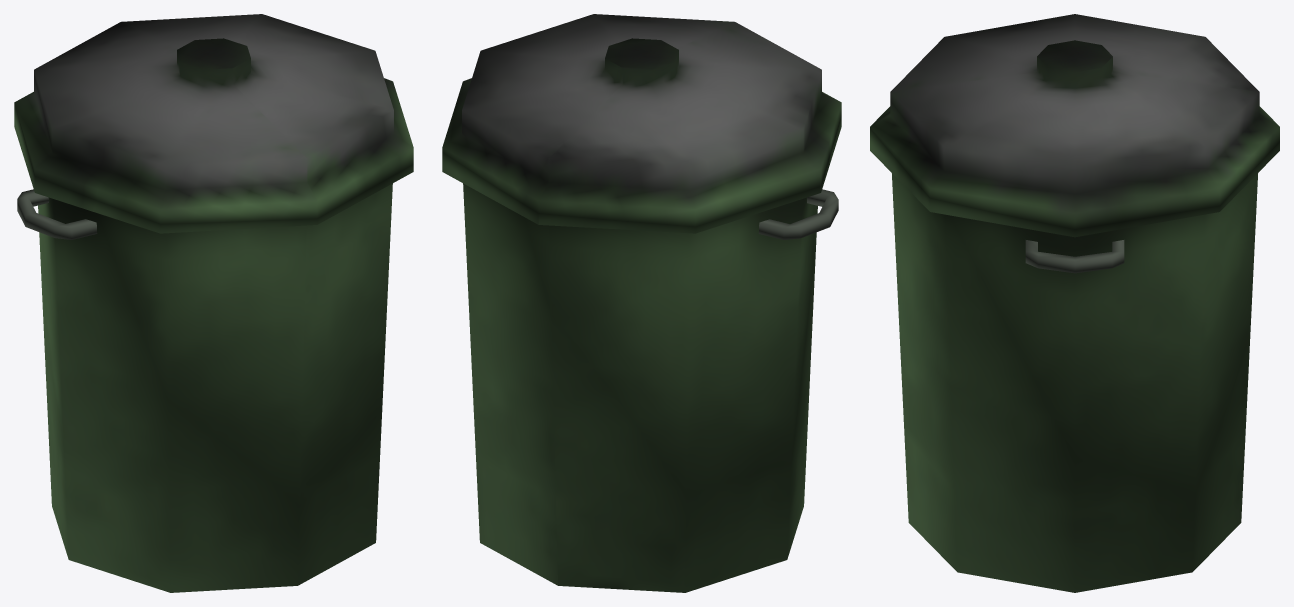
The model's file is Garbage Bin1.fbx.
The picture shows the model from 3 angles, left to right: view 1: azimuth 30°, elevation 25°; view 2: azimuth 150°, elevation 25°; view 3: azimuth 270°, elevation 25°; orthographic projection.
Visible parts, largest first — view 1: Garbage Bin1; view 2: Garbage Bin1; view 3: Garbage Bin1.
Part boxes in pixels (x1,y1,x2,y2): Garbage Bin1: (14,14,413,592); Garbage Bin1: (442,14,841,592); Garbage Bin1: (870,14,1279,592).
Bounding box in the file's own units: 1.08 × 1.29 × 1.03.
1 material, 1 textured.
